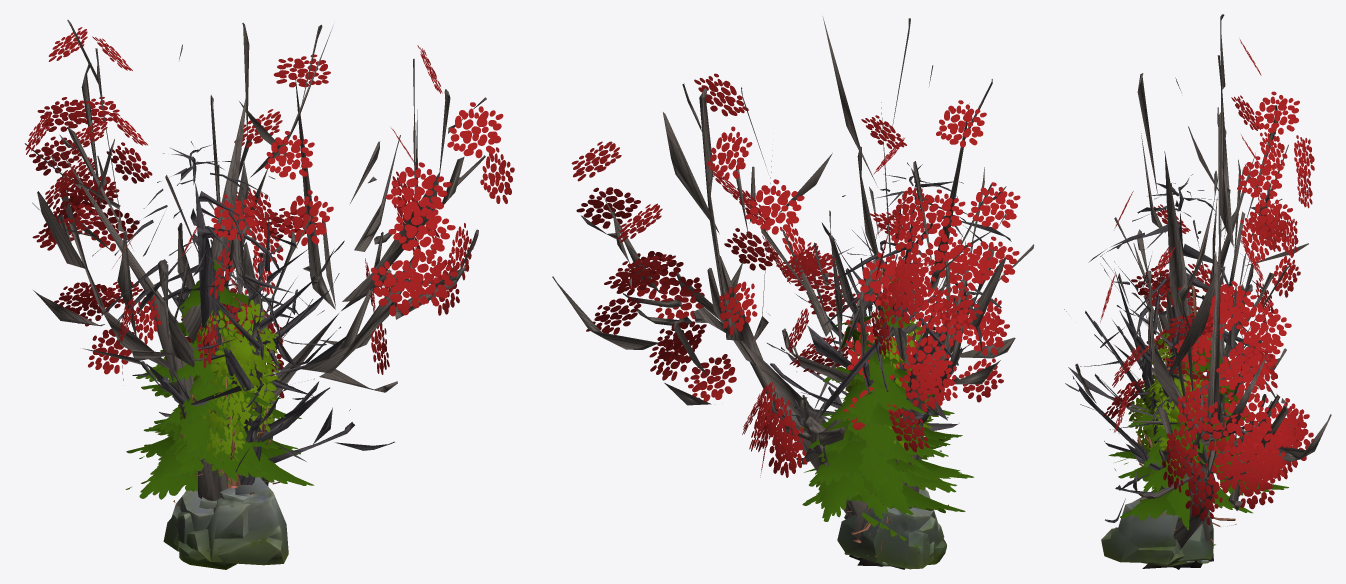
The model's file is nature_lod2.glb.
The picture shows the model from 3 angles, left to right: view 1: azimuth 30°, elevation 25°; view 2: azimuth 150°, elevation 25°; view 3: azimuth 270°, elevation 25°; orthographic projection. The views are drawn at different scales.
Parts seen in each view (by area): view 1: TwistedTree_2, TwistedTree_1, DeadTree_2, DeadTree_3, Pine_4, Rock_Medium_3, Pine_5, DeadTree_1, Rock_Medium_1, CommonTree_3, CommonTree_2, Pine_2 (+4 smaller); view 2: TwistedTree_1, TwistedTree_2, Pine_5, Pine_4, Rock_Medium_2, DeadTree_3, Pine_2, DeadTree_1, DeadTree_2, Pine_3, Pine_1, Rock_Medium_3; view 3: TwistedTree_1, TwistedTree_2, Rock_Medium_3, DeadTree_2, DeadTree_3, Pine_2, DeadTree_1, Pine_4, Pine_5, Rock_Medium_2, CommonTree_3, CommonTree_2 (+1 smaller).
Boxes of the visible parts, <box> form: TwistedTree_2: <box>24,20,332,500</box>; TwistedTree_1: <box>181,24,514,486</box>; DeadTree_2: <box>162,210,394,485</box>; DeadTree_3: <box>92,141,308,375</box>; Pine_4: <box>141,259,301,507</box>; Rock_Medium_3: <box>177,477,288,569</box>; Pine_5: <box>126,279,314,499</box>; DeadTree_1: <box>132,239,350,461</box>; Rock_Medium_1: <box>173,487,250,561</box>; CommonTree_3: <box>178,287,281,488</box>; CommonTree_2: <box>181,325,274,464</box>; Pine_2: <box>125,326,300,489</box>; TwistedTree_1: <box>552,73,934,569</box>; TwistedTree_2: <box>761,16,1034,508</box>; Pine_5: <box>809,326,965,521</box>; Pine_4: <box>798,268,973,556</box>; Rock_Medium_2: <box>837,507,934,569</box>; DeadTree_3: <box>817,162,1011,566</box>; Pine_2: <box>802,379,956,547</box>; DeadTree_1: <box>770,253,948,464</box>; DeadTree_2: <box>767,194,979,460</box>; Pine_3: <box>820,369,948,543</box>; Pine_1: <box>823,351,956,535</box>; Rock_Medium_3: <box>844,507,946,564</box>; TwistedTree_1: <box>1075,188,1331,568</box>; TwistedTree_2: <box>1114,14,1314,569</box>; Rock_Medium_3: <box>1101,500,1181,563</box>; DeadTree_2: <box>1064,252,1251,522</box>; DeadTree_3: <box>1088,174,1278,402</box>; Pine_2: <box>1118,365,1252,529</box>; DeadTree_1: <box>1094,310,1262,567</box>; Pine_4: <box>1108,285,1255,531</box>; Pine_5: <box>1114,346,1288,520</box>; Rock_Medium_2: <box>1178,510,1213,561</box>; CommonTree_3: <box>1128,345,1197,469</box>; CommonTree_2: <box>1132,367,1203,467</box>.
Bounding box in the file's own units: 17.01 × 17.9 × 8.94.
Materials: 12 (12 with a texture image).
